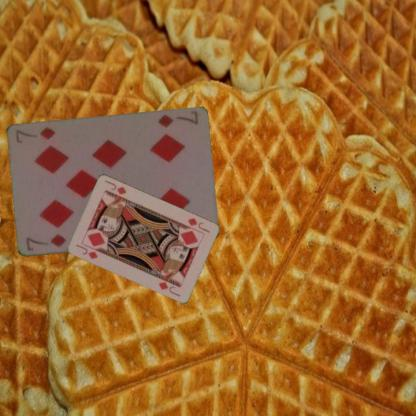7d: (23, 231, 67, 252), (155, 109, 199, 129)
Jd: (184, 216, 211, 234), (73, 242, 99, 260)
